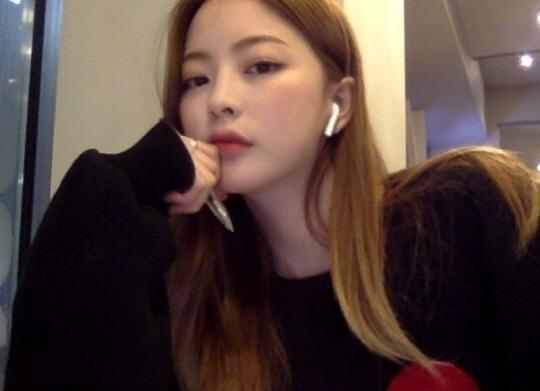earphone: (324, 101, 342, 138)
